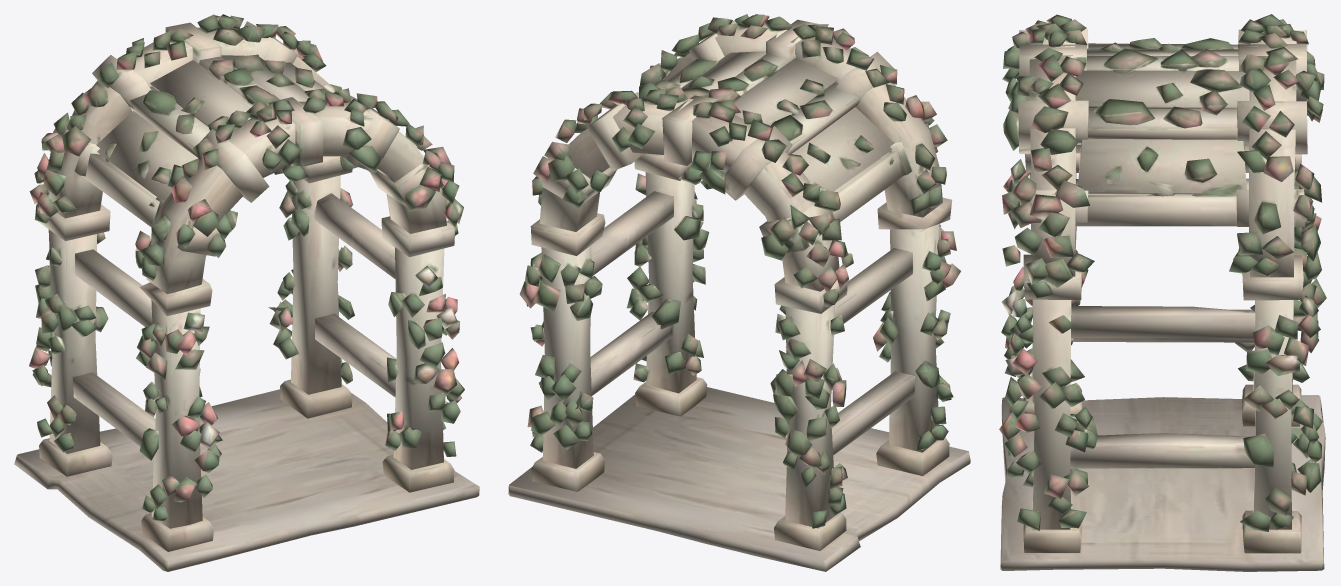
File: arch.glb
3 views of the same model, side by side, from view 1: azimuth 30°, elevation 25°; view 2: azimuth 150°, elevation 25°; view 3: azimuth 270°, elevation 25° (orthographic). The views are drawn at different scales.
Size of the model in its own units: 0.796 by 1 by 0.6594.
1 material, 1 textured.
